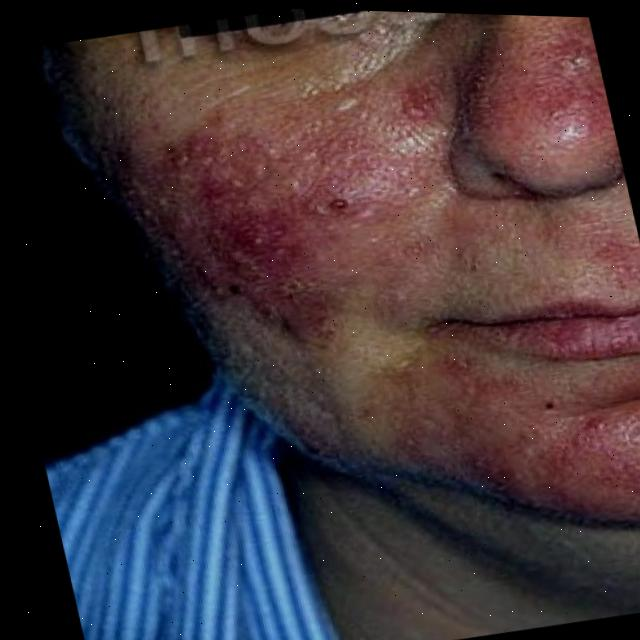Rosacea: (123, 58, 469, 358), (385, 370, 640, 531), (478, 23, 603, 133), (578, 228, 640, 282)
